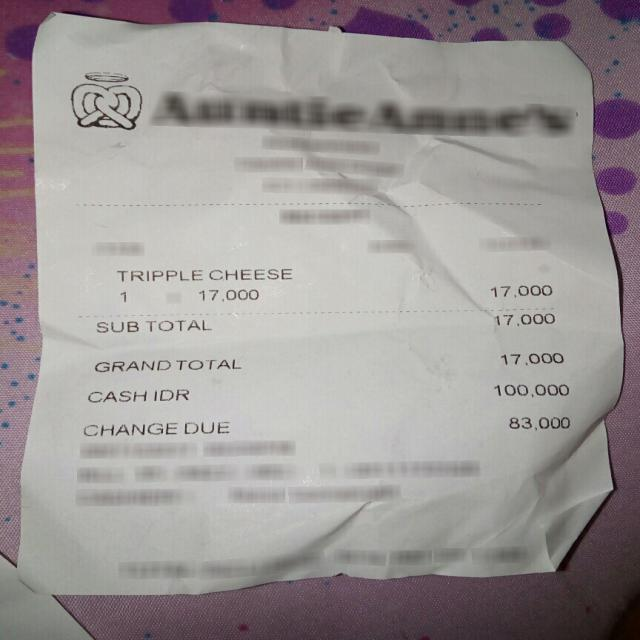kertas: (18, 13, 633, 612)
